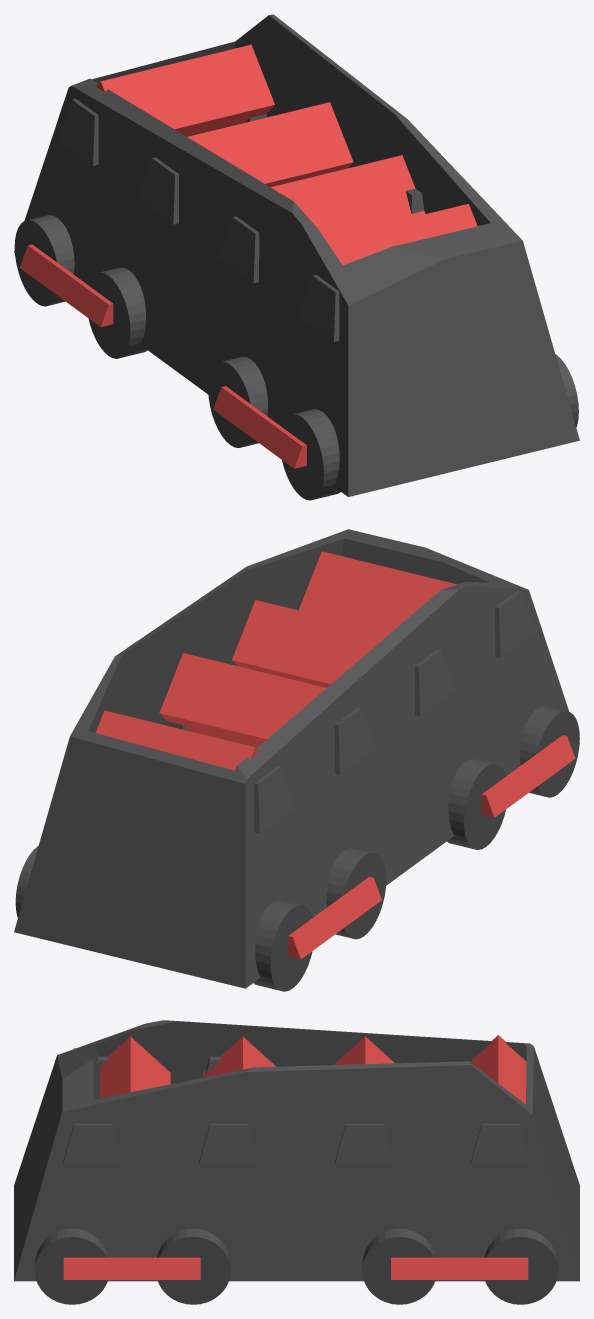
File: WagonBroken.glb
3 views of the same model, one above another, from view 1: azimuth 30°, elevation 25°; view 2: azimuth 150°, elevation 25°; view 3: azimuth 270°, elevation 25° (orthographic). The views are drawn at different scales.
Visible parts, largest first — view 1: vagao, Cube.006, Cube.005, Cube.001, roda_direita.001, Cube.007; view 2: vagao, Cube.005, Cube.001, Cube.007, roda_direita.001, Cube.006; view 3: vagao, roda_esquerda.001, Cube.007, Cube.006, Cube.001, Cube.005.
Part boxes in pixels (bbox=[...]): vagao: bbox=[14, 14, 579, 500]; Cube.006: bbox=[96, 44, 274, 136]; Cube.005: bbox=[187, 102, 353, 187]; Cube.001: bbox=[271, 155, 425, 238]; roda_direita.001: bbox=[20, 244, 306, 468]; Cube.007: bbox=[325, 203, 477, 265]; vagao: bbox=[14, 529, 579, 991]; Cube.005: bbox=[159, 653, 326, 748]; Cube.001: bbox=[232, 600, 390, 687]; Cube.007: bbox=[298, 551, 457, 632]; roda_direita.001: bbox=[288, 735, 575, 959]; Cube.006: bbox=[95, 710, 258, 770]; vagao: bbox=[14, 1020, 579, 1304]; roda_esquerda.001: bbox=[63, 1257, 528, 1279]; Cube.007: bbox=[100, 1036, 170, 1098]; Cube.006: bbox=[470, 1035, 526, 1104]; Cube.001: bbox=[203, 1036, 275, 1077]; Cube.005: bbox=[334, 1036, 394, 1064].
Size of the model in its own units: 9.68 by 8.63 by 20.
